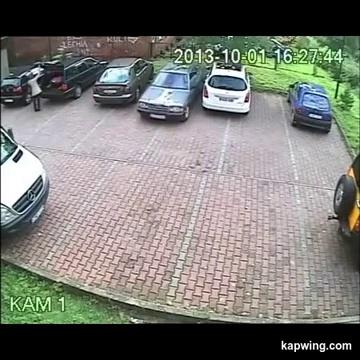car: (1, 126, 49, 236), (137, 62, 205, 120), (329, 153, 359, 267), (39, 56, 107, 99), (93, 58, 153, 104), (202, 62, 250, 113), (287, 81, 332, 132), (1, 65, 42, 105)
